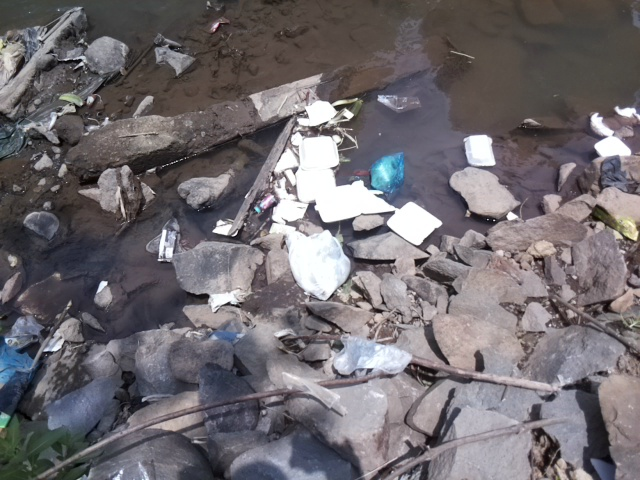Sampah_Botol_Plastik: (255, 191, 275, 213)
Sampah_Plastik: (285, 232, 349, 301), (329, 333, 414, 379), (367, 152, 407, 197), (376, 91, 422, 113), (158, 228, 174, 264)
Sampah_Styrofoam: (291, 166, 394, 221), (386, 201, 443, 246), (292, 135, 346, 171), (593, 132, 634, 161), (462, 134, 498, 167), (300, 100, 340, 126), (274, 199, 308, 220)
